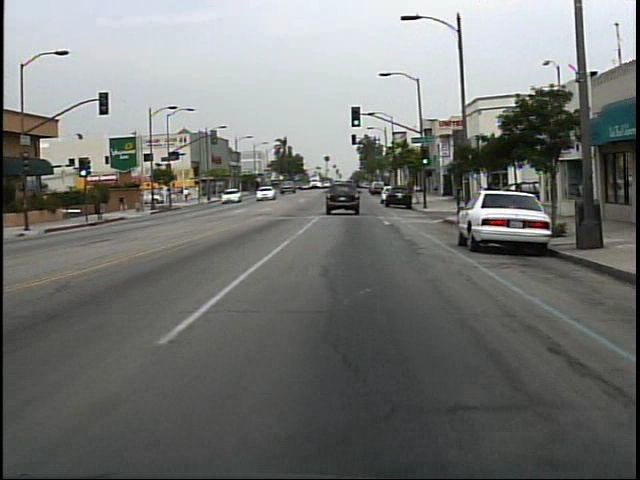person: (479, 176, 501, 221), (116, 192, 135, 220), (183, 185, 192, 205)
